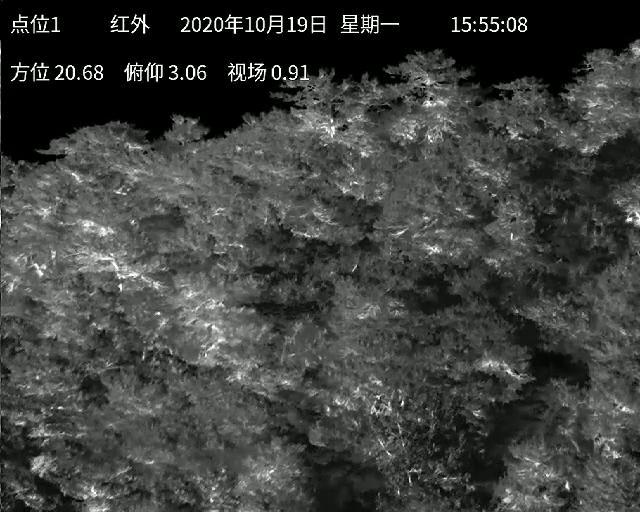uav: (373, 393, 385, 402)
